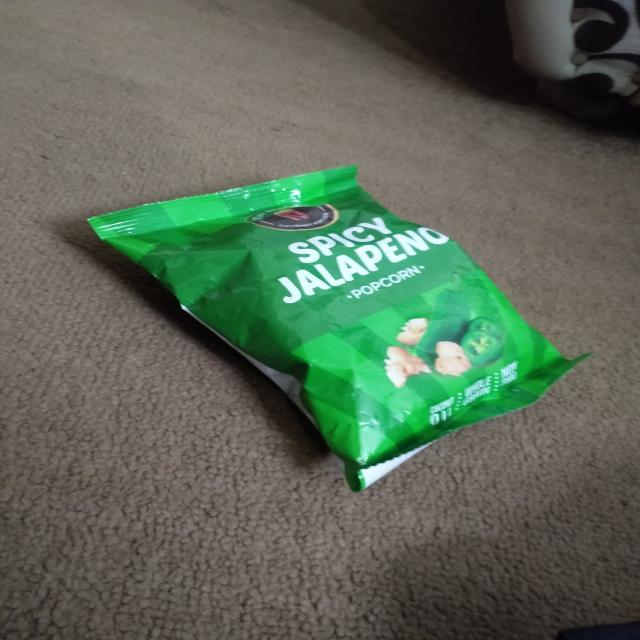Plastic: (66, 165, 585, 494)
